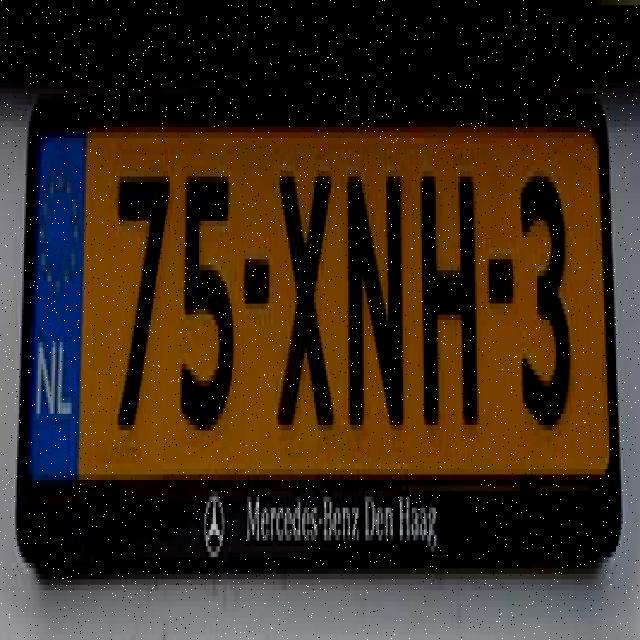EU: (28, 103, 620, 563)
Pays-Bas: (30, 125, 84, 486)
